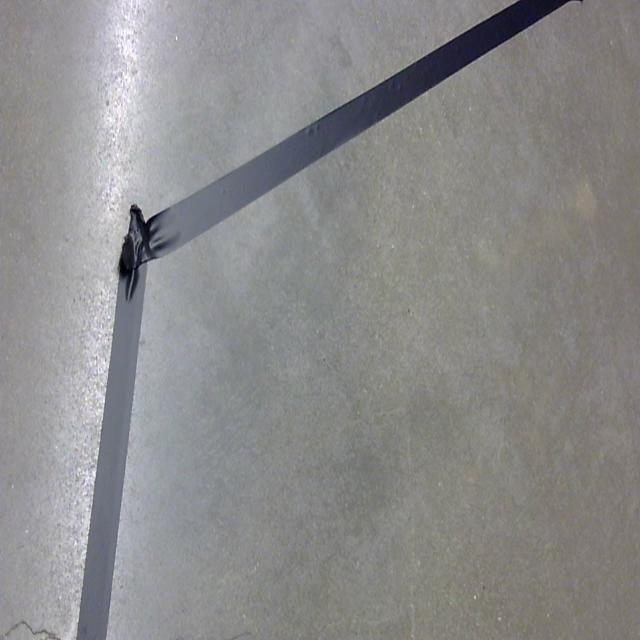tape: (56, 0, 615, 640)
